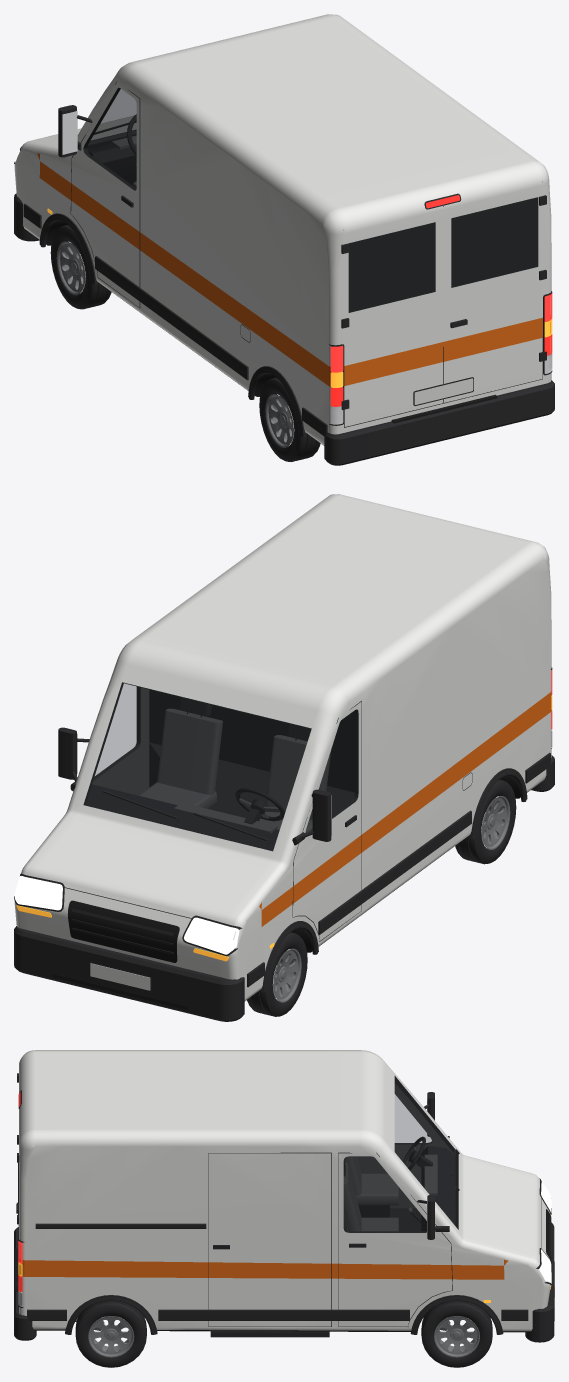
Rendered from van_delivery.glb.
The picture shows the model from 3 angles, top to bottom: view 1: azimuth 30°, elevation 25°; view 2: azimuth 150°, elevation 25°; view 3: azimuth 270°, elevation 25°; orthographic projection. The views are drawn at different scales.
Parts seen in each view (by area): view 1: Body, Glass, Wheel_RL, Wheel_FL, Interior, Lights_Brake, Lights_Tail; view 2: Body, Glass, Interior, Wheel_RL, Wheel_FL, Lights_Head, SteeringWheel; view 3: Body, Glass, Interior, Wheel_RR, Wheel_FR, Lights_Head.
Part boxes in pixels (x1,y1,x2,y2): Body: [14, 14, 554, 465]; Glass: [84, 88, 537, 312]; Wheel_RL: [259, 377, 320, 461]; Wheel_FL: [50, 225, 111, 309]; Interior: [87, 135, 136, 188]; Lights_Brake: [330, 195, 552, 406]; Lights_Tail: [330, 293, 552, 372]; Body: [14, 494, 554, 1021]; Glass: [84, 683, 357, 850]; Interior: [85, 697, 331, 851]; Wheel_RL: [455, 779, 516, 864]; Wheel_FL: [247, 932, 307, 1016]; Lights_Head: [14, 876, 239, 954]; SteeringWheel: [235, 788, 284, 821]; Body: [14, 1050, 554, 1342]; Glass: [344, 1077, 457, 1232]; Interior: [343, 1146, 455, 1231]; Wheel_RR: [75, 1301, 146, 1367]; Wheel_FR: [421, 1301, 492, 1367]; Lights_Head: [539, 1181, 551, 1283].
Size of the model in its own units: 2.4 by 2.39 by 5.01.
